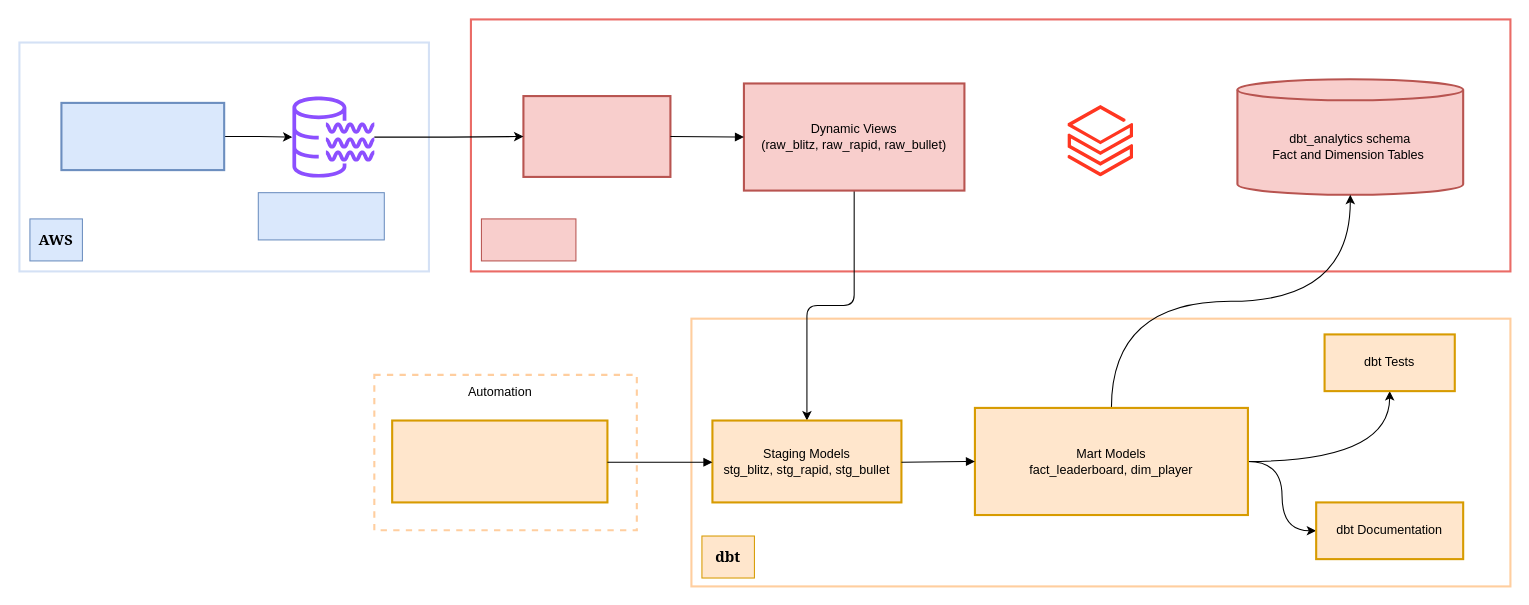
The diagram is 1529 pixels wide and 605 high, and some of its shapes have lost their labels. Each missing label, with the centre of its shape:
AWS Lambda (Daily Ingestion): point 142,136
Databricks: point 528,239
dbt Cloud Job Daily 00:30 UTC: point 499,461
External Location (lichess_raw_location): point 596,135
S3 Lake (Raw Data Bucket): point 320,216
